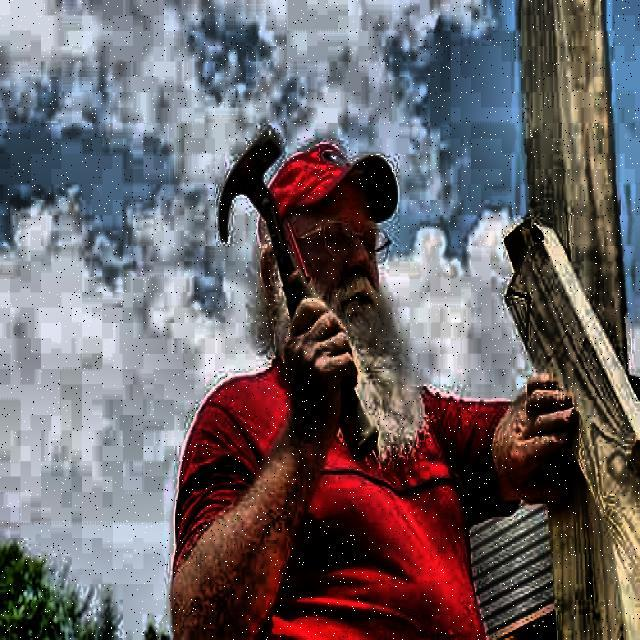hammer: (219, 129, 377, 458)
